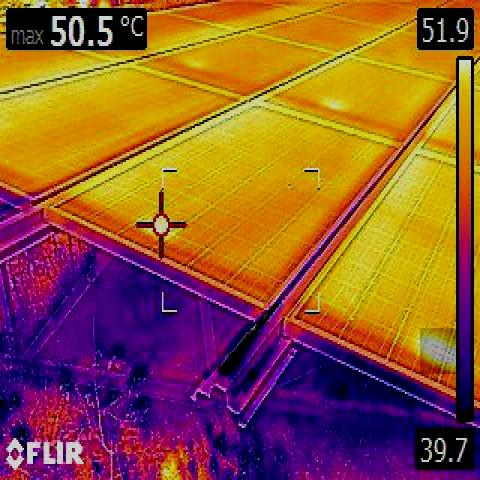fault: (420, 328, 456, 374)
